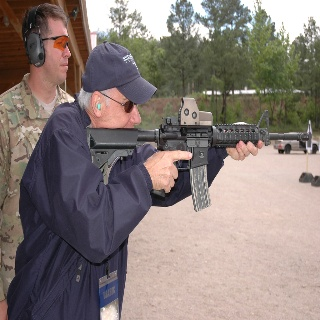rifle: (85, 94, 312, 212)
